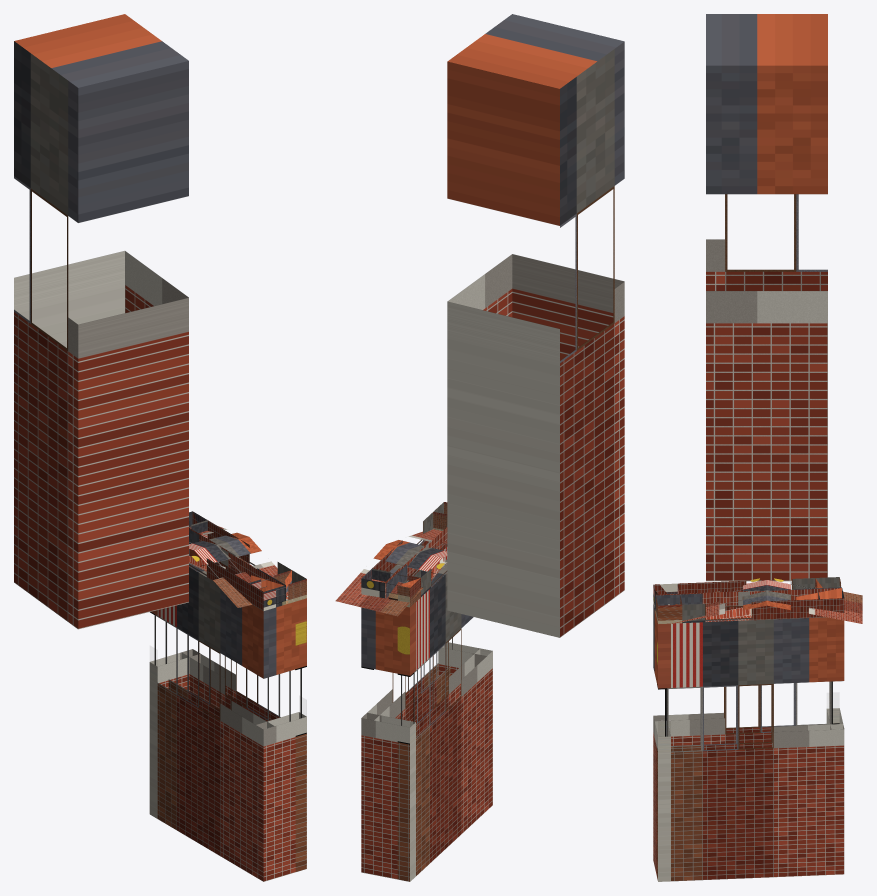
3 renders of one model, left to right at view 1: azimuth 30°, elevation 25°; view 2: azimuth 150°, elevation 25°; view 3: azimuth 270°, elevation 25°, orthographic. The views are drawn at different scales.
Parts seen in each view (by area): view 1: 238568847__chimney_0_xb, 238568847__wall_0_xb, 238568847__wall_1_xb, 238568847__wall_2_xb, 238568847__wall_3_xb, 238568847__cornice_0, 238568847_roof_-1_xb, 238568847__cornice_2, 238568847__cornice_1; view 2: 238568847__chimney_0_xb, 238568847__wall_0_xb, 238568847__wall_3_xb, 238568847__wall_2_xb, 238568847_roof_1_xb, 238568847__cornice_3, 238568847__cornice_2, 238568847__cornice_0, 238568847__wall_1_xb, 238568847_roof_-1_xb; view 3: 238568847__chimney_0_xb, 238568847__wall_2_xb, 238568847__wall_1_xb, 238568847__cornice_2, 238568847__wall_0_xb, 238568847__cornice_0, 238568847_roof_1_xb, 238568847_roof_-1_xb, 238568847__cornice_1.
Boxes of the visible parts, <box> form: 238568847__chimney_0_xb: <box>14,14,188,629</box>; 238568847__wall_0_xb: <box>150,563,274,881</box>; 238568847__wall_1_xb: <box>256,597,306,881</box>; 238568847__wall_2_xb: <box>181,549,306,871</box>; 238568847__wall_3_xb: <box>149,549,200,818</box>; 238568847__cornice_0: <box>189,529,284,610</box>; 238568847_roof_-1_xb: <box>191,537,288,607</box>; 238568847__cornice_2: <box>189,511,306,603</box>; 238568847__cornice_1: <box>249,570,306,610</box>; 238568847__chimney_0_xb: <box>447,14,624,637</box>; 238568847__wall_0_xb: <box>397,559,492,881</box>; 238568847__wall_3_xb: <box>361,602,415,881</box>; 238568847__wall_2_xb: <box>361,540,452,723</box>; 238568847_roof_1_xb: <box>335,544,444,616</box>; 238568847__cornice_3: <box>361,568,420,607</box>; 238568847__cornice_2: <box>361,502,447,598</box>; 238568847__cornice_0: <box>386,527,447,598</box>; 238568847__wall_1_xb: <box>438,642,486,676</box>; 238568847_roof_-1_xb: <box>386,529,447,557</box>; 238568847__chimney_0_xb: <box>706,14,827,581</box>; 238568847__wall_2_xb: <box>657,617,844,881</box>; 238568847__wall_1_xb: <box>653,604,670,881</box>; 238568847__cornice_2: <box>655,588,844,623</box>; 238568847__wall_0_xb: <box>654,610,839,745</box>; 238568847__cornice_0: <box>653,577,841,610</box>; 238568847_roof_1_xb: <box>767,578,862,623</box>; 238568847_roof_-1_xb: <box>672,578,766,623</box>; 238568847__cornice_1: <box>653,583,682,623</box>.
Size of the model in its own units: 0.2752 by 1.05 by 0.2574.
Materials: 1 (1 with a texture image).
